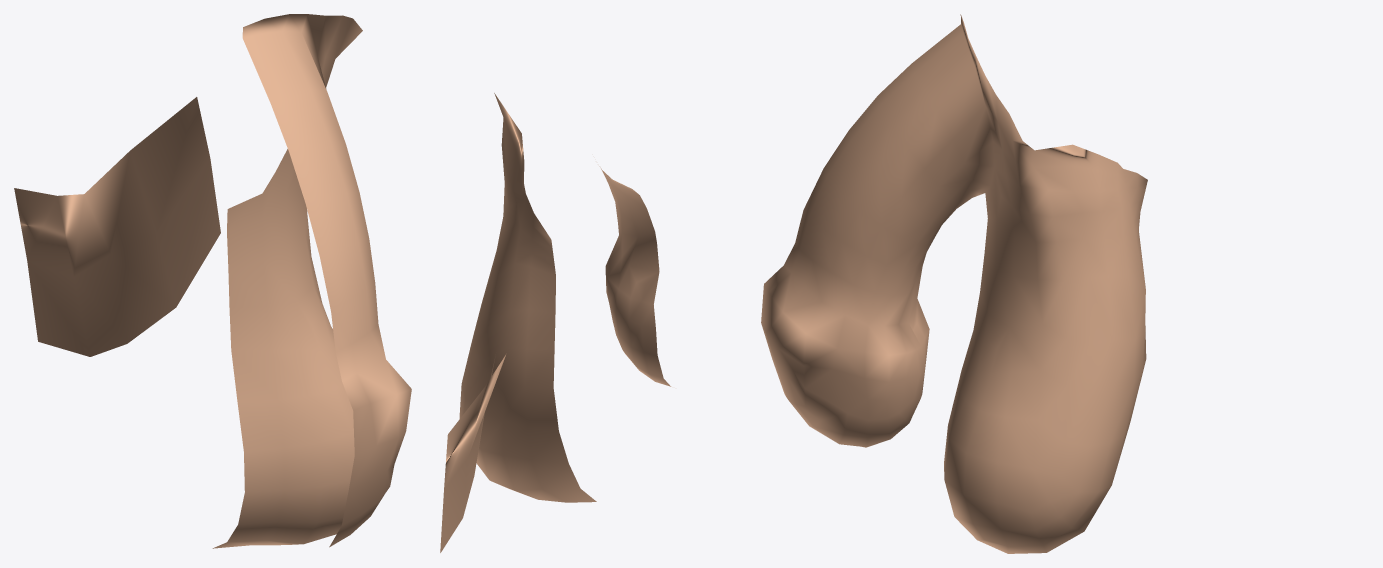
File: urogenital-region-l.glb
3 views of the same model, side by side, from view 1: azimuth 30°, elevation 25°; view 2: azimuth 150°, elevation 25°; view 3: azimuth 270°, elevation 25° (orthographic). The views are drawn at different scales.
Parts seen in each view (by area): view 1: Urogenital region.l; view 2: Urogenital region.l; view 3: Urogenital region.l.
Boxes of the visible parts, box(x1,y1,x2,y2) form: Urogenital region.l: box(14, 14, 411, 548); Urogenital region.l: box(440, 93, 671, 552); Urogenital region.l: box(761, 14, 1147, 553).
Bounding box in the file's own units: 0.0339 × 0.1146 × 0.1269.
